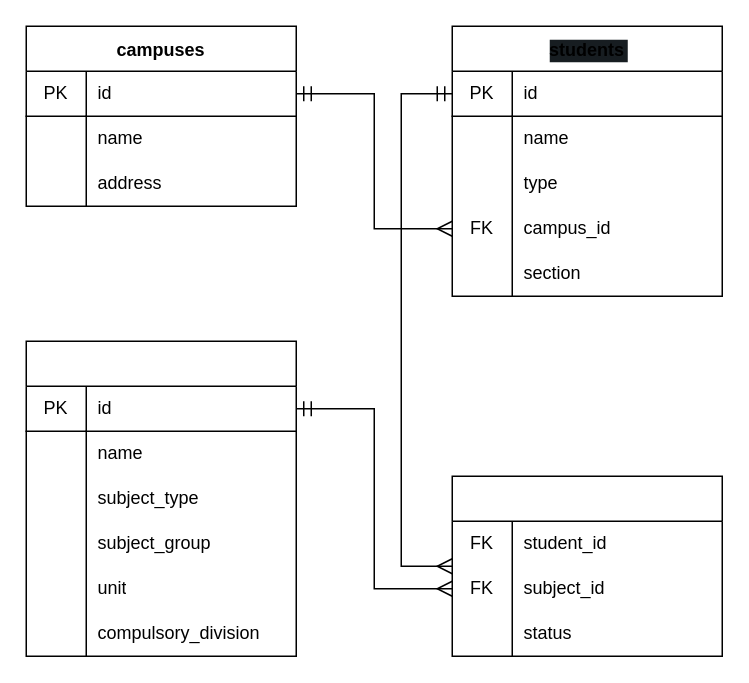
This 749x683 diagram has some shape labels left out. The box of each missing label's shape, as (x1, y1, x2, y2) in pixels:
student_subject: (451, 475, 722, 656)
subjects: (25, 340, 296, 656)
